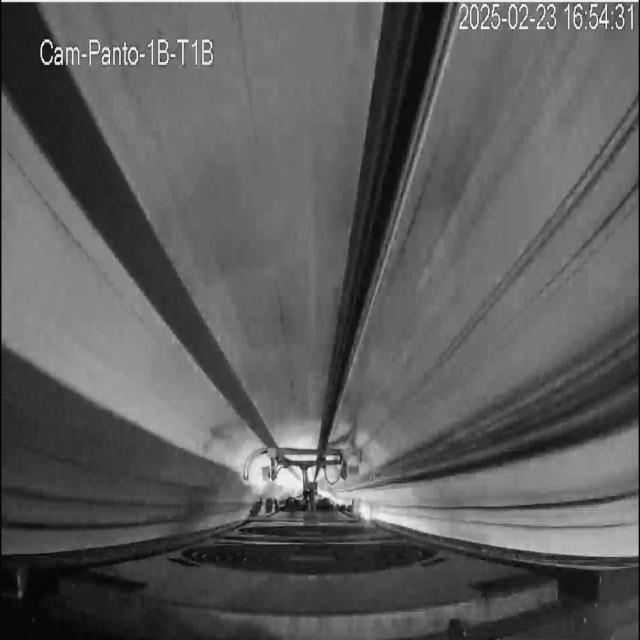Camera Stamp: (40, 33, 217, 68)
Date Stamp: (455, 3, 631, 33)
No - Spark: (213, 416, 376, 517)
